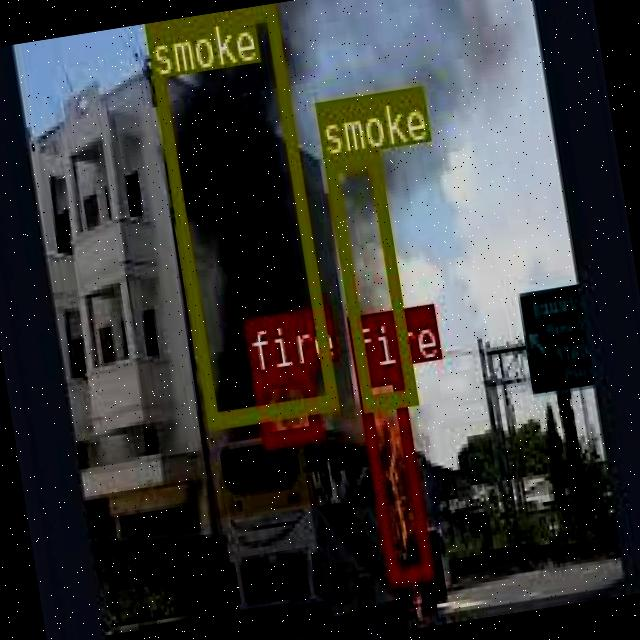fire: (354, 364, 431, 583), (252, 363, 319, 446)
smoke: (144, 4, 334, 428), (322, 150, 414, 408)
